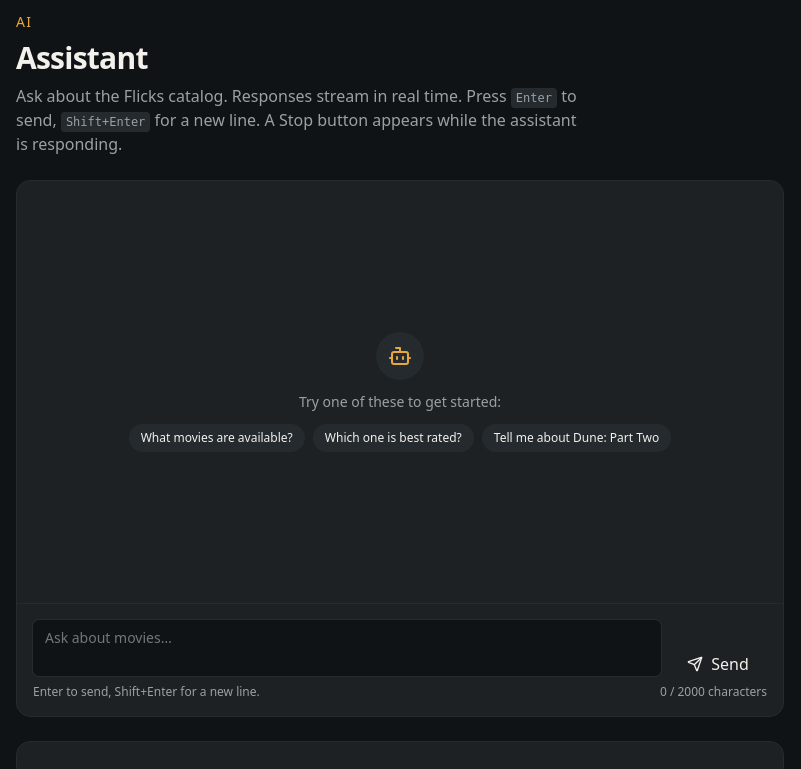
Test case: Assistant › keeps the partial answer when the reader stops the stream
In the text box labelled "Ask about movies": (347, 648) [33, 620, 661, 676], type "Which sci-fi movies run under three hours?"
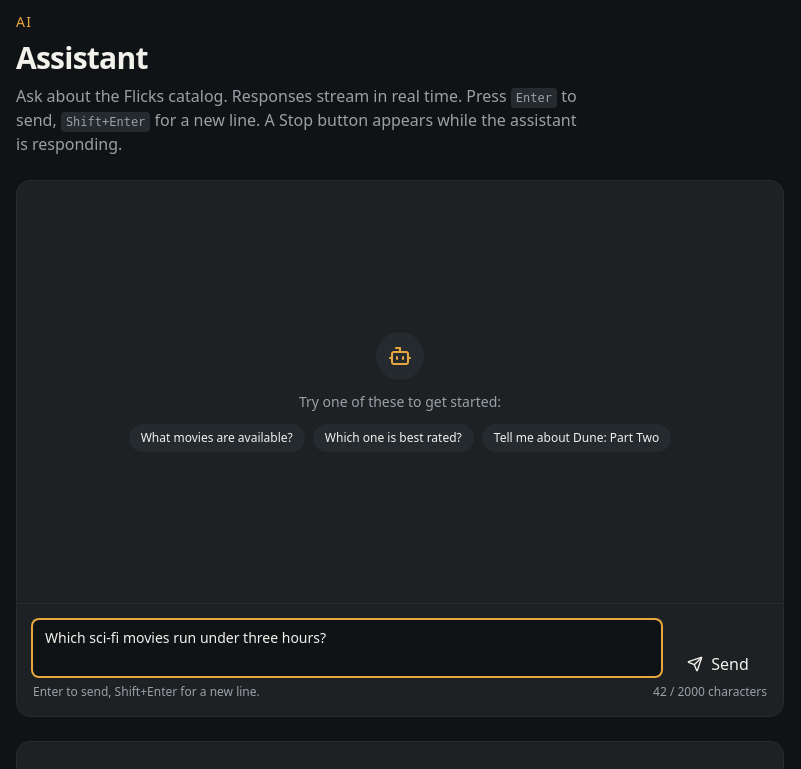
Click the button with aria-label "Send message": (718, 664) [669, 652, 767, 676]
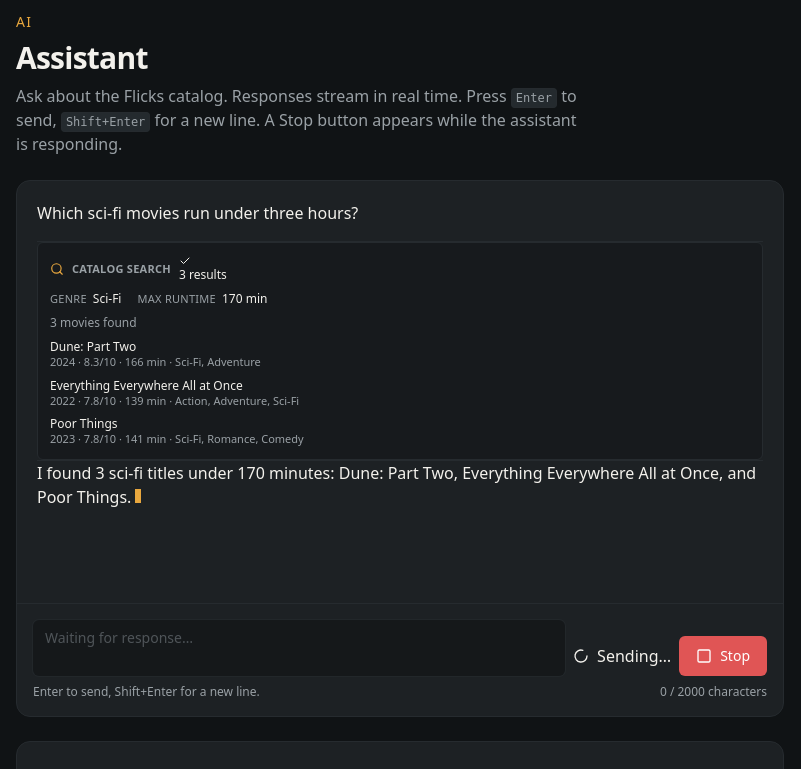
Expected: the element named "Assistant message" shows "I found", [37, 462, 760, 508]
Click the button with aria-label "Stop generating": (723, 656) [679, 636, 767, 676]
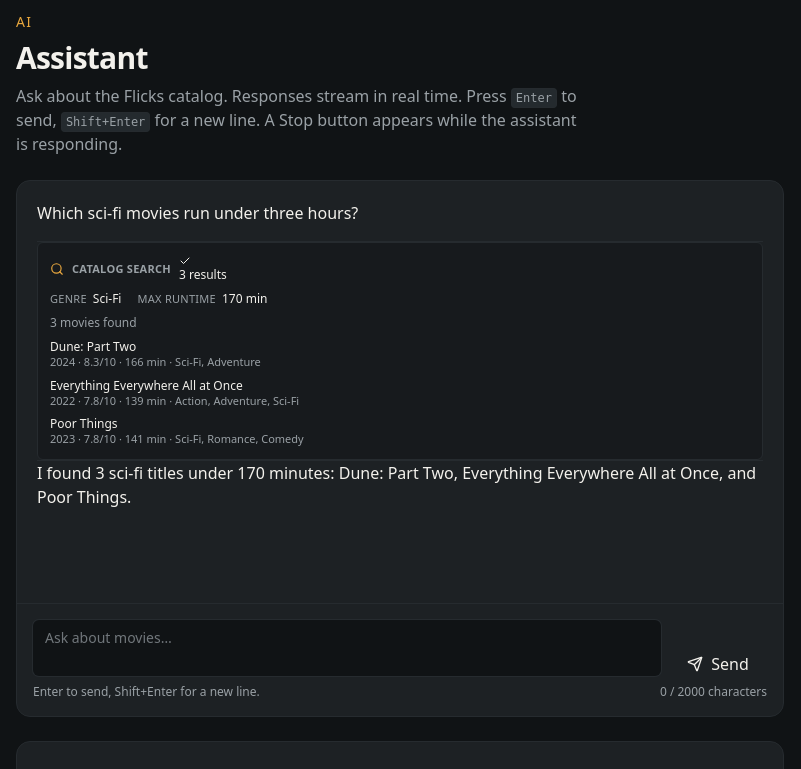
Expected: the element named "Assistant message" shows "I found", [37, 462, 760, 508]
Expected: the button with aria-label "Send message" is enabled, [669, 652, 767, 676]
